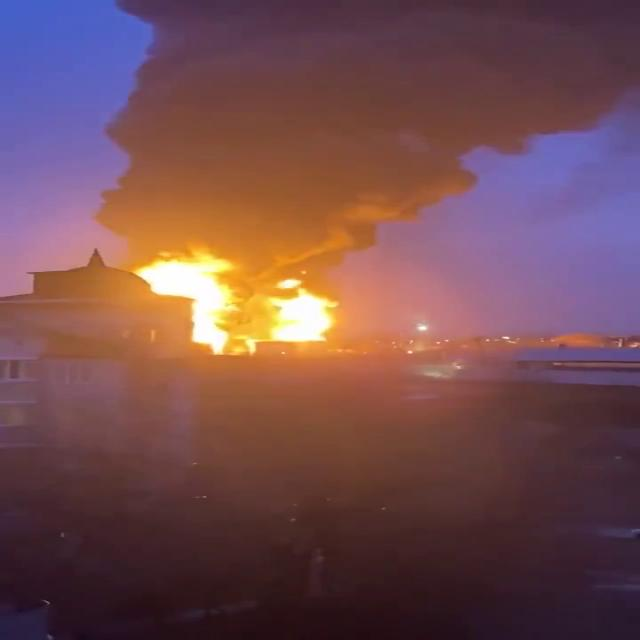Fire: (129, 250, 344, 354)
Smoke: (97, 0, 640, 292)
